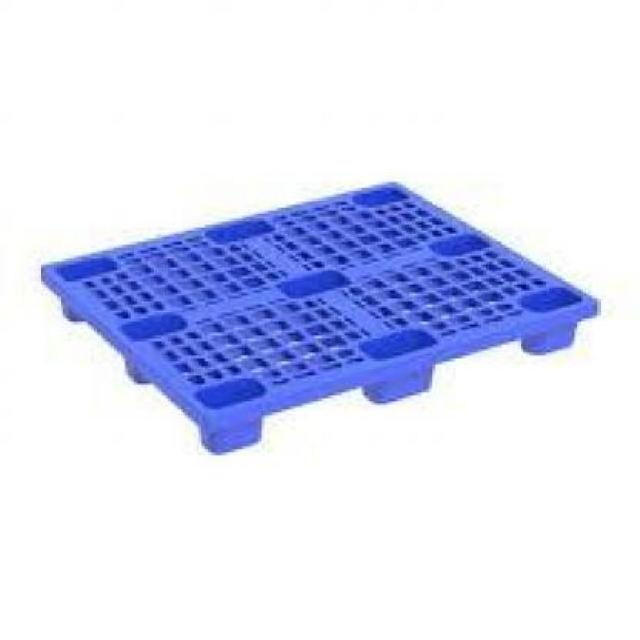pallet: (35, 167, 621, 470)
